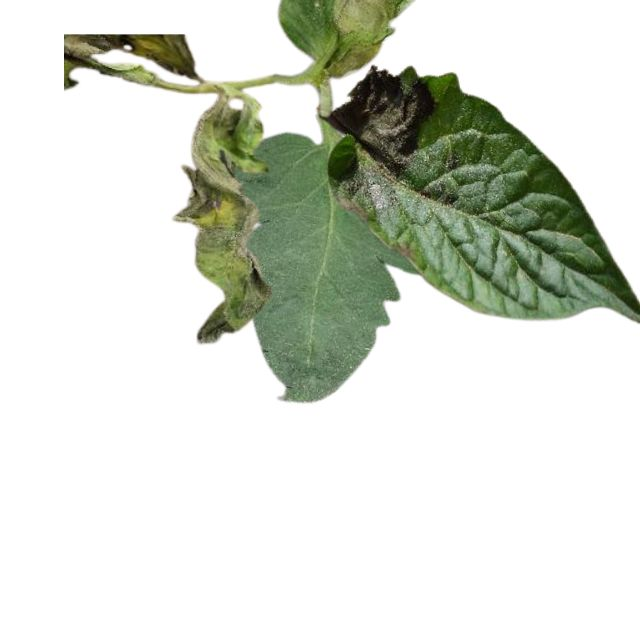Late_blight: (172, 98, 271, 343), (323, 68, 437, 218), (63, 33, 196, 87), (322, 1, 414, 78), (390, 235, 415, 257)
